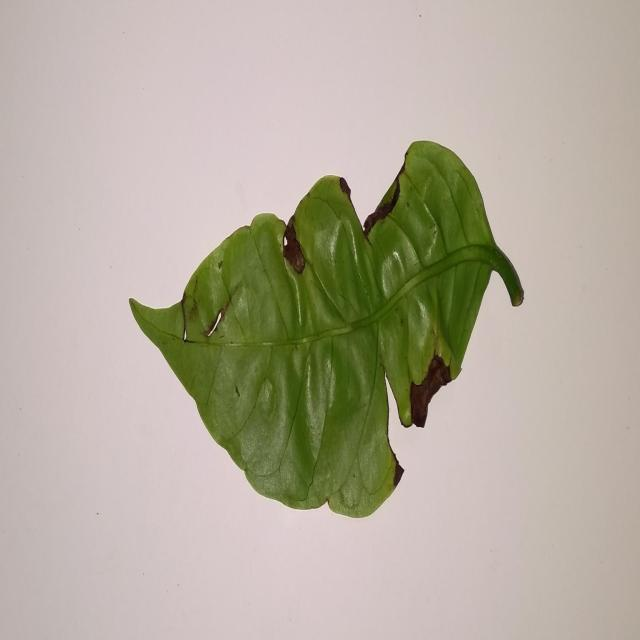Enfermedad-Antracnosis: (127, 141, 525, 522)
